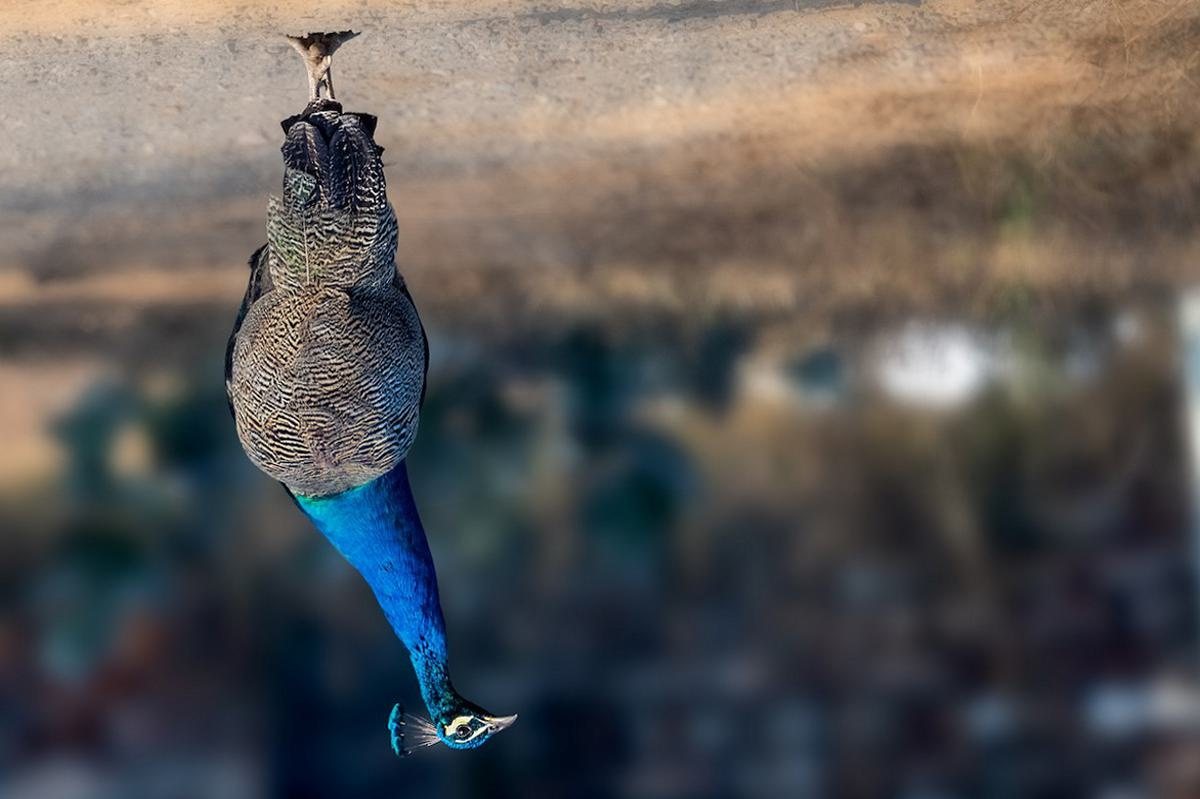peacock: (224, 14, 527, 756)
